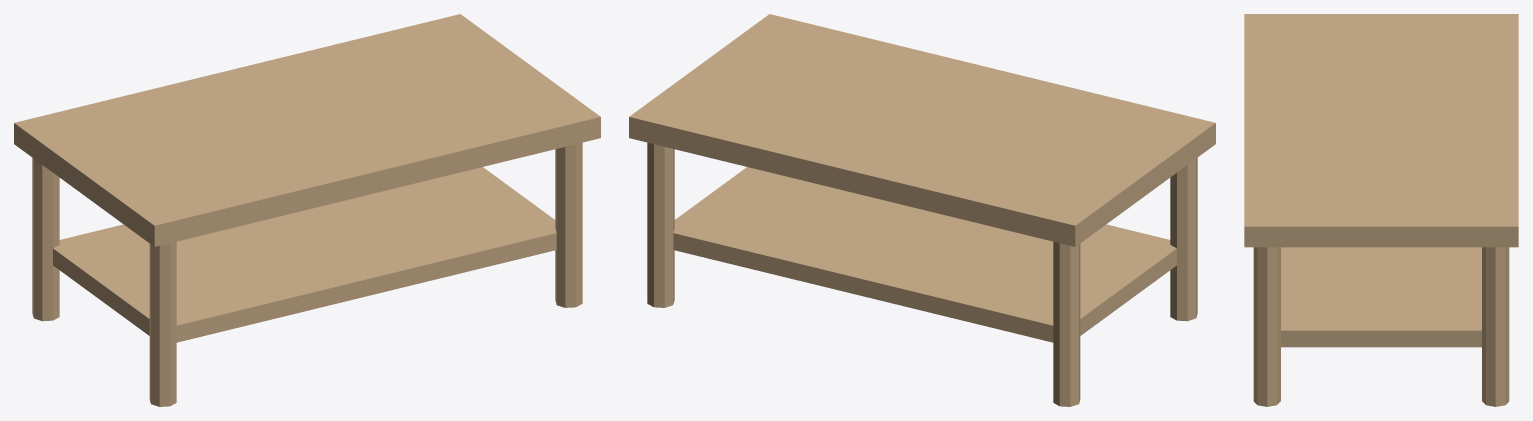
The model's file is fu_coffee_table.glb.
3 renders of one model, left to right at view 1: azimuth 30°, elevation 25°; view 2: azimuth 150°, elevation 25°; view 3: azimuth 270°, elevation 25°, orthographic. The views are drawn at different scales.
Visible parts, largest first — view 1: fu_coffee_table; view 2: fu_coffee_table; view 3: fu_coffee_table.
Part boxes in pixels (x1=…): fu_coffee_table: x1=14, y1=14, x2=600, y2=406; fu_coffee_table: x1=629, y1=14, x2=1215, y2=406; fu_coffee_table: x1=1244, y1=14, x2=1518, y2=406.
Bounding box in the file's own units: 1.1 × 0.445 × 0.6.
